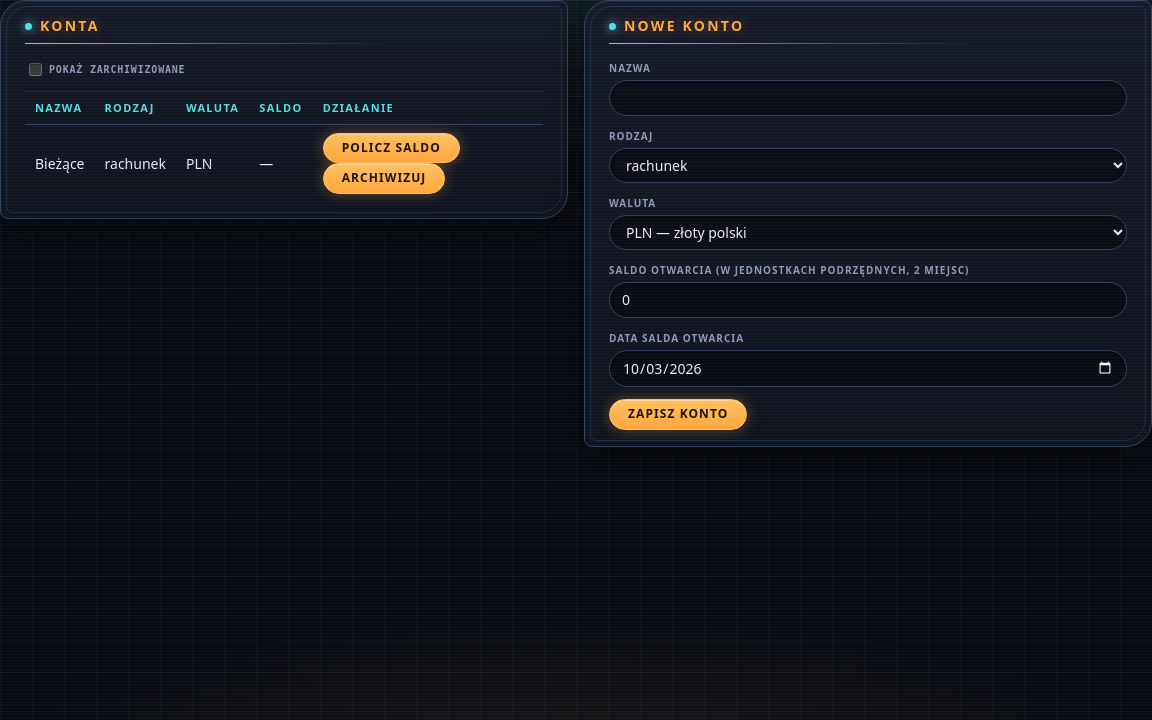
it: KontaRoute › kwota z przecinkiem jest odrzucana, bo grosz nie jest ułamkiem
Expected: the cell "Bieżące" is shown, top-left (25, 124), bottom-right (94, 202)
Type "Oszczędnościowe" into the field labelled "Nazwa". click: (868, 98)
box: top-left (609, 80), bottom-right (1127, 116)
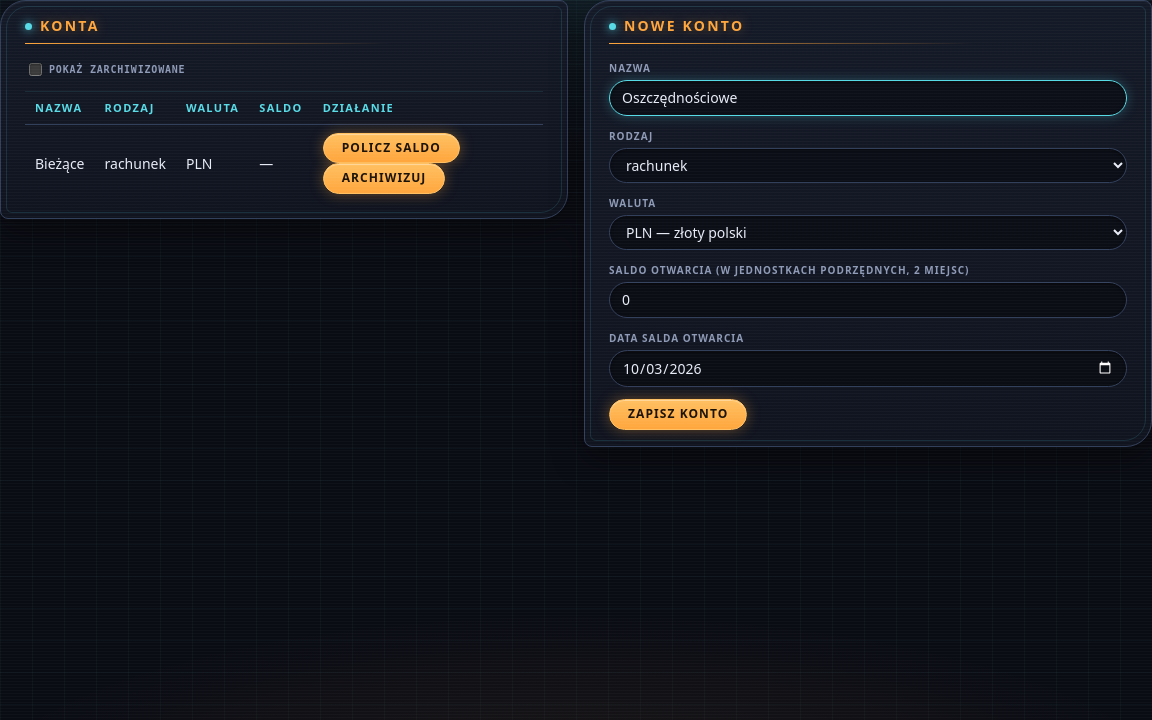
Replace the text in the field labelled "Saldo otwarcia (w jednostkach podrzędnych, 2 miejsc)" with "12,50". click: (868, 300)
box: top-left (609, 282), bottom-right (1127, 318)
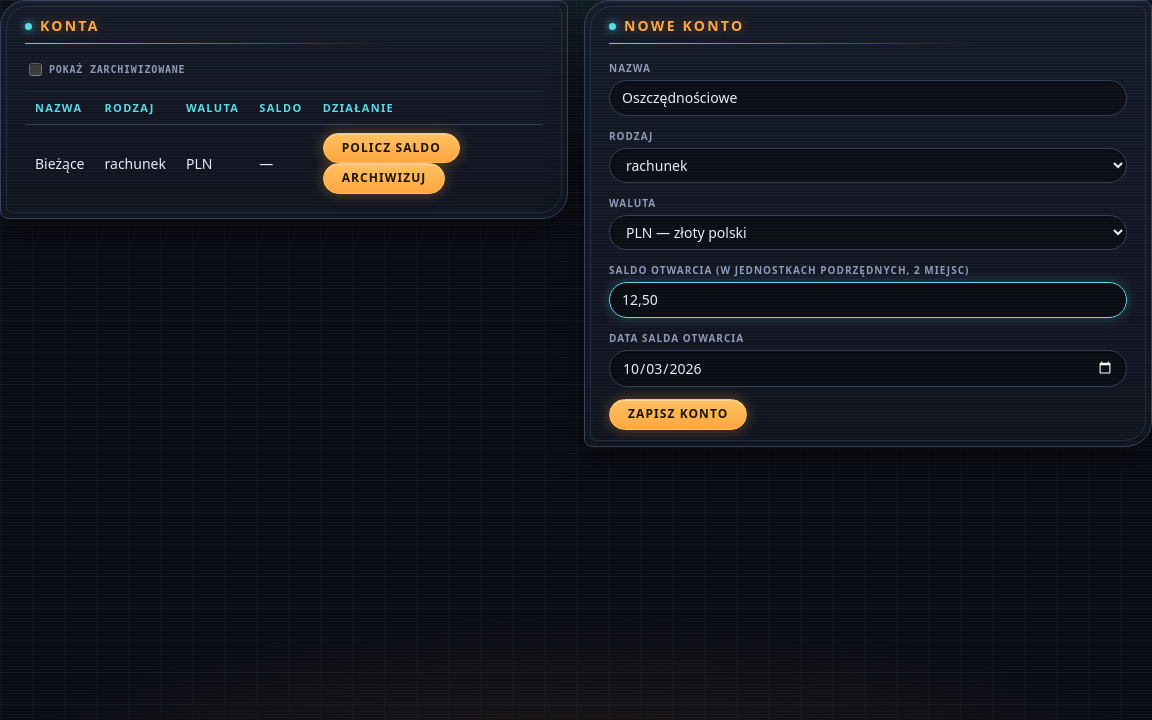
Click the button "Zapisz konto". click: (678, 415)
box: top-left (609, 399), bottom-right (747, 430)
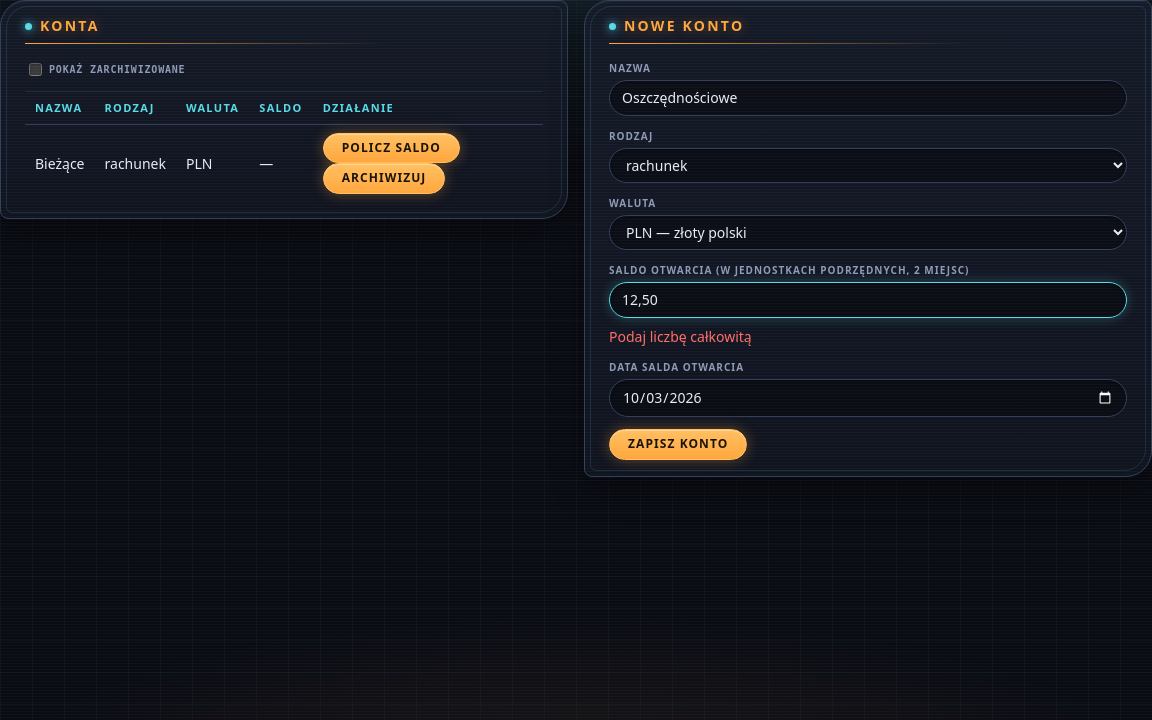
Expected: the message reads "Podaj liczbę całkowitą", top-left (609, 327), bottom-right (752, 346)
